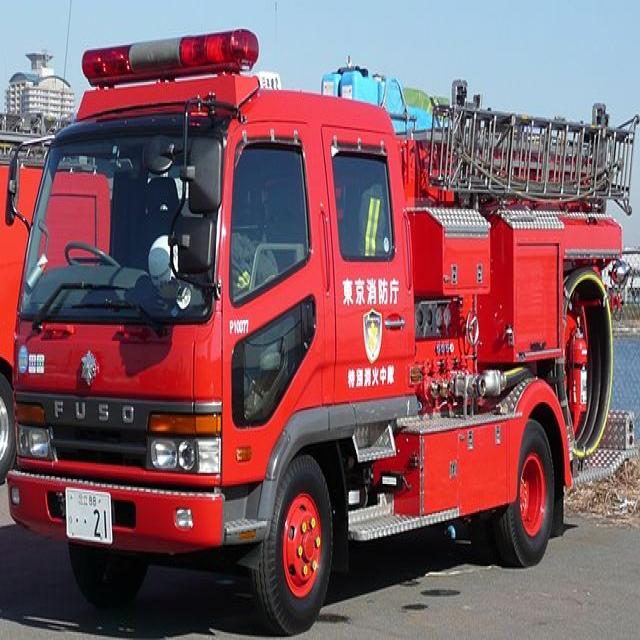Fire-truck: (1, 28, 637, 636)
